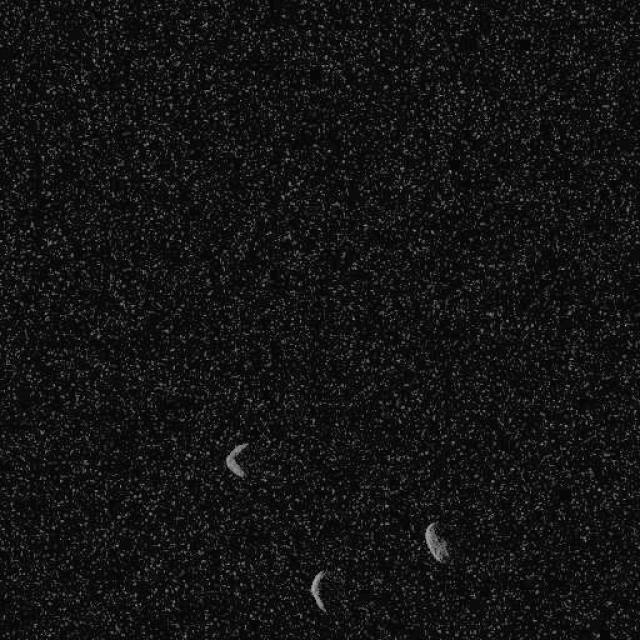D2: (422, 520, 450, 564), (224, 441, 248, 479), (308, 568, 328, 612)
